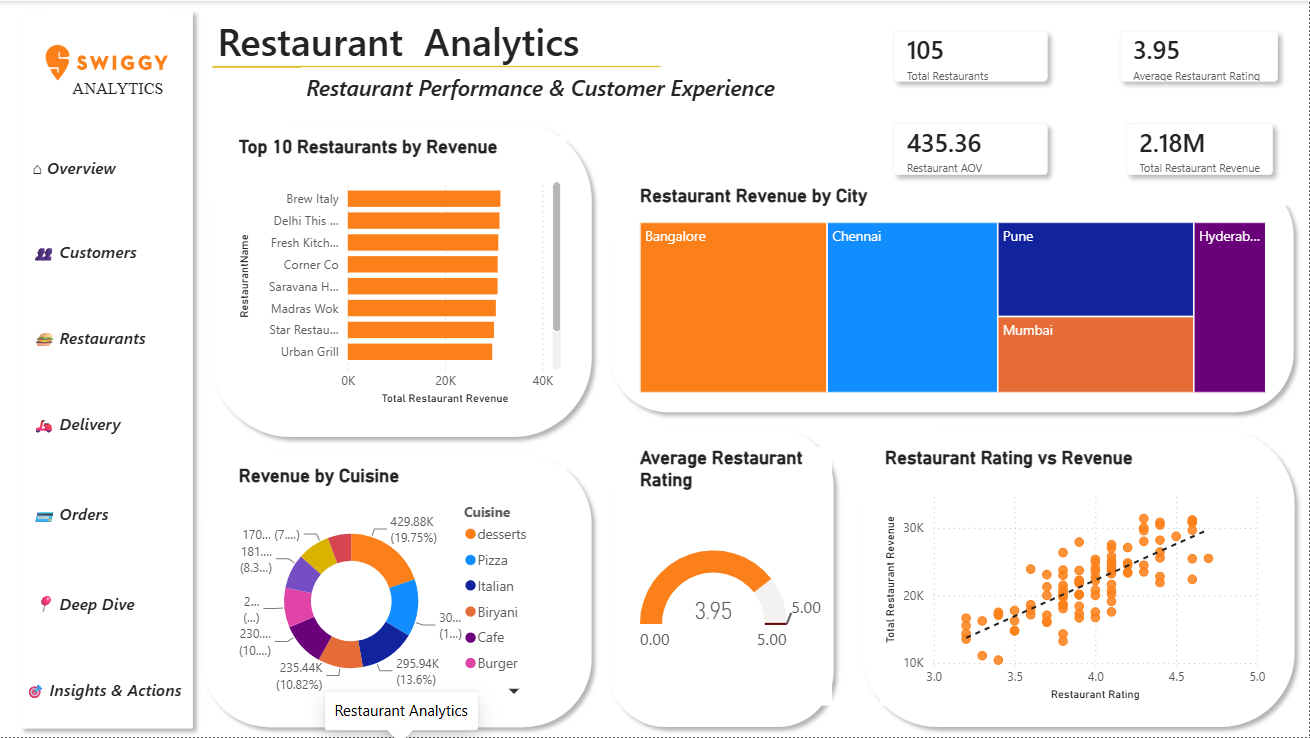

What the dashboard file says about the page in this screenshot:
{"tool":"powerbi","page":{"name":"Restaurant Analytics","canvas":[1280,720],"ordinal":2},"visuals":[{"type":"shape","box":[834.7,411.1,440.3,308.3],"z":0},{"type":"shape","box":[587.5,411.1,237.5,308.3],"z":1000},{"type":"shape","box":[188,435,399.3,284],"z":2000},{"type":"shape","box":[587.5,162.5,687.5,248.6],"z":3000},{"type":"shape","box":[197.6,108.4,389.7,326.6],"z":4000},{"type":"shape","box":[11,0,186.6,720.4],"z":5000},{"type":"image","box":[0,0,208.6,120.8],"z":6000},{"type":"textbox","box":[65.9,72.7,101.5,35.7],"z":7000},{"type":"textbox","box":[27.4,146.8,116.6,31.6],"z":8000},{"type":"textbox","box":[27.4,229.2,119.4,31.6],"z":9000},{"type":"textbox","box":[27.4,312.9,123.5,34.3],"z":10000},{"type":"textbox","box":[27.4,397.9,105.7,37],"z":11000},{"type":"textbox","box":[27.4,485.8,98.8,38.4],"z":12000},{"type":"textbox","box":[27.4,573.6,115.3,38.4],"z":13000},{"type":"textbox","box":[208.3,8.3,379.2,63.9],"z":14000},{"type":"shape","box":[208.3,50,438.6,28.6],"z":15000},{"type":"textbox","box":[294.4,65.3,488.9,50],"z":16000},{"type":"cardVisual","fields":{"Data":["dimrestaurant.Total Restaurants"]},"box":[844.4,0,209.7,108.3],"z":17000},{"type":"cardVisual","fields":{"Data":["dimrestaurant.Average Restaurant Rating"]},"box":[1066.7,0,213.9,108.3],"z":18000},{"type":"cardVisual","fields":{"Data":["factorders.Total Restaurant Revenue"]},"box":[1072.2,90.3,202.8,109.7],"z":19000},{"type":"cardVisual","fields":{"Data":["factorders.Restaurant AOV"]},"box":[844.4,90.3,209.7,109.7],"z":20000},{"type":"clusteredBarChart","title":"Top 10 Restaurants by Revenue","fields":{"Category":["dimrestaurant.RestaurantName"],"Y":["factorders.Total Restaurant Revenue"]},"box":[229.2,131.7,325.2,267.6],"z":21000},{"type":"donutChart","title":"Revenue by Cuisine","fields":{"Category":["dimrestaurant.Cuisine"],"Y":["factorders.Total Restaurant Revenue"]},"box":[229.2,454.2,325.2,234.6],"z":22000},{"type":"scatterChart","title":"Restaurant Rating vs Revenue","fields":{"Y":["factorders.Total Restaurant Revenue"],"Category":["dimrestaurant.RestaurantID"],"X":["dimrestaurant.Restaurant Rating"]},"box":[861.1,436.1,381.9,252.8],"z":23000},{"type":"treemap","title":"Restaurant Revenue by City","fields":{"Group":["dimrestaurant.City"],"Values":["factorders.Total Restaurant Revenue"]},"box":[620.8,179.2,622.2,208.3],"z":24000},{"type":"gauge","fields":{"Y":["dimrestaurant.Average Restaurant Rating"]},"box":[620.8,436.1,193.1,252.8],"z":25000},{"type":"textbox","box":[20.6,657.3,166,32.9],"z":26000},{"type":"actionButton","box":[31.6,145.5,100,40],"z":26001},{"type":"actionButton","box":[30.2,226.4,113.9,39.8],"z":26002},{"type":"actionButton","box":[30.2,397.9,100,40],"z":26003},{"type":"actionButton","box":[30.2,484.4,100,40],"z":26004},{"type":"actionButton","box":[37,568.1,105.7,39.8],"z":26005},{"type":"actionButton","box":[16.5,653.2,170.2,39.8],"z":26006}]}

Visuals, with their boxes on the page's 1280x720 design canvas (x1, y1, x2, y2). These are canvas units, not pixel positions in the 1310x738 screenshot, which may show the page scaled, cropped or inside an application window:
shape: box(835, 411, 1275, 719)
shape: box(588, 411, 825, 719)
shape: box(188, 435, 587, 719)
shape: box(588, 162, 1275, 411)
shape: box(198, 108, 587, 435)
shape: box(11, 0, 198, 720)
image: box(0, 0, 209, 121)
textbox: box(66, 73, 167, 108)
textbox: box(27, 147, 144, 178)
textbox: box(27, 229, 147, 261)
textbox: box(27, 313, 151, 347)
textbox: box(27, 398, 133, 435)
textbox: box(27, 486, 126, 524)
textbox: box(27, 574, 143, 612)
textbox: box(208, 8, 588, 72)
shape: box(208, 50, 647, 79)
textbox: box(294, 65, 783, 115)
cardVisual - dimrestaurant.Total Restaurants: box(844, 0, 1054, 108)
cardVisual - dimrestaurant.Average Restaurant Rating: box(1067, 0, 1281, 108)
cardVisual - factorders.Total Restaurant Revenue: box(1072, 90, 1275, 200)
cardVisual - factorders.Restaurant AOV: box(844, 90, 1054, 200)
"Top 10 Restaurants by Revenue" clusteredBarChart: box(229, 132, 554, 399)
"Revenue by Cuisine" donutChart: box(229, 454, 554, 689)
"Restaurant Rating vs Revenue" scatterChart: box(861, 436, 1243, 689)
"Restaurant Revenue by City" treemap: box(621, 179, 1243, 388)
gauge - dimrestaurant.Average Restaurant Rating: box(621, 436, 814, 689)
textbox: box(21, 657, 187, 690)
actionButton: box(32, 146, 132, 186)
actionButton: box(30, 226, 144, 266)
actionButton: box(30, 398, 130, 438)
actionButton: box(30, 484, 130, 524)
actionButton: box(37, 568, 143, 608)
actionButton: box(16, 653, 187, 693)
